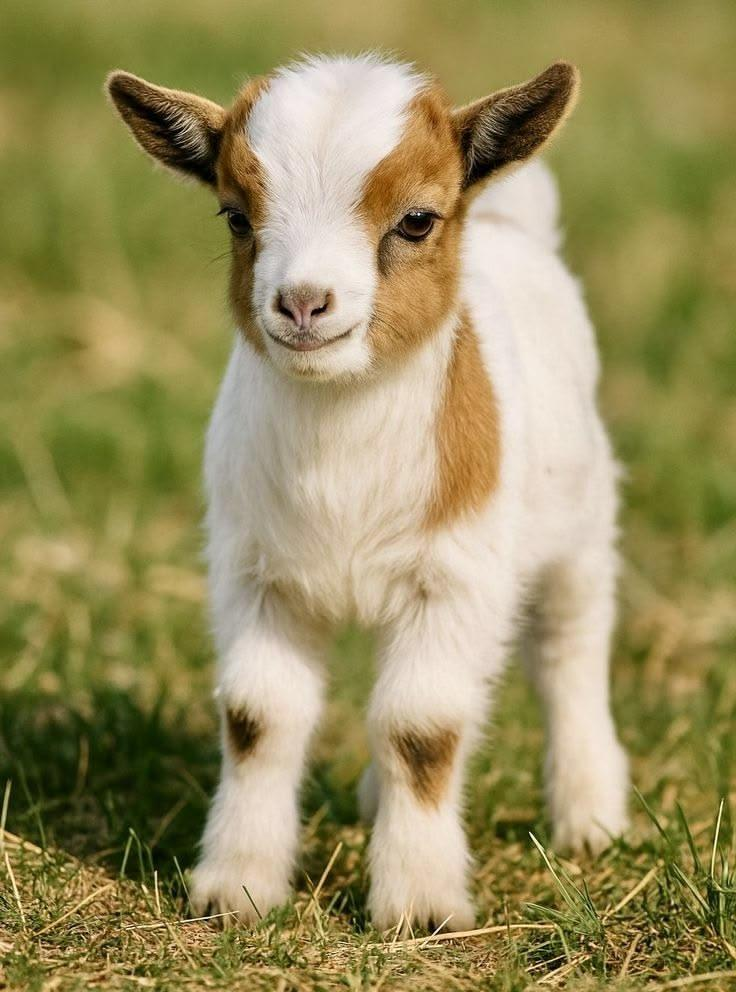sheep: (108, 57, 626, 928)
